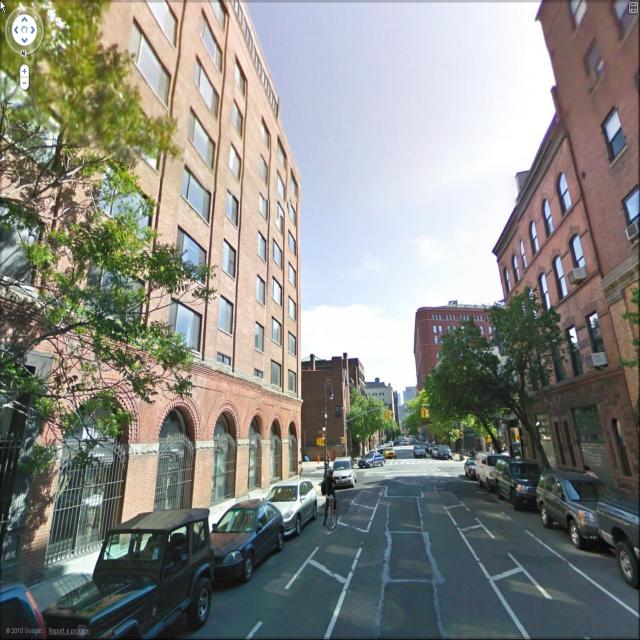b_1: (94, 1, 316, 464), (302, 358, 366, 444)
